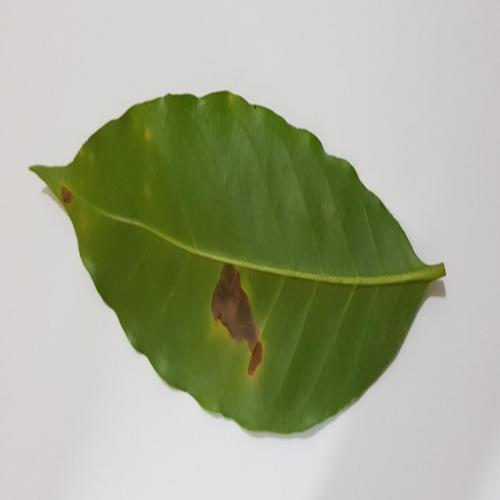leaf: (23, 89, 451, 434)
phoma: (203, 260, 270, 386), (52, 183, 74, 203)
